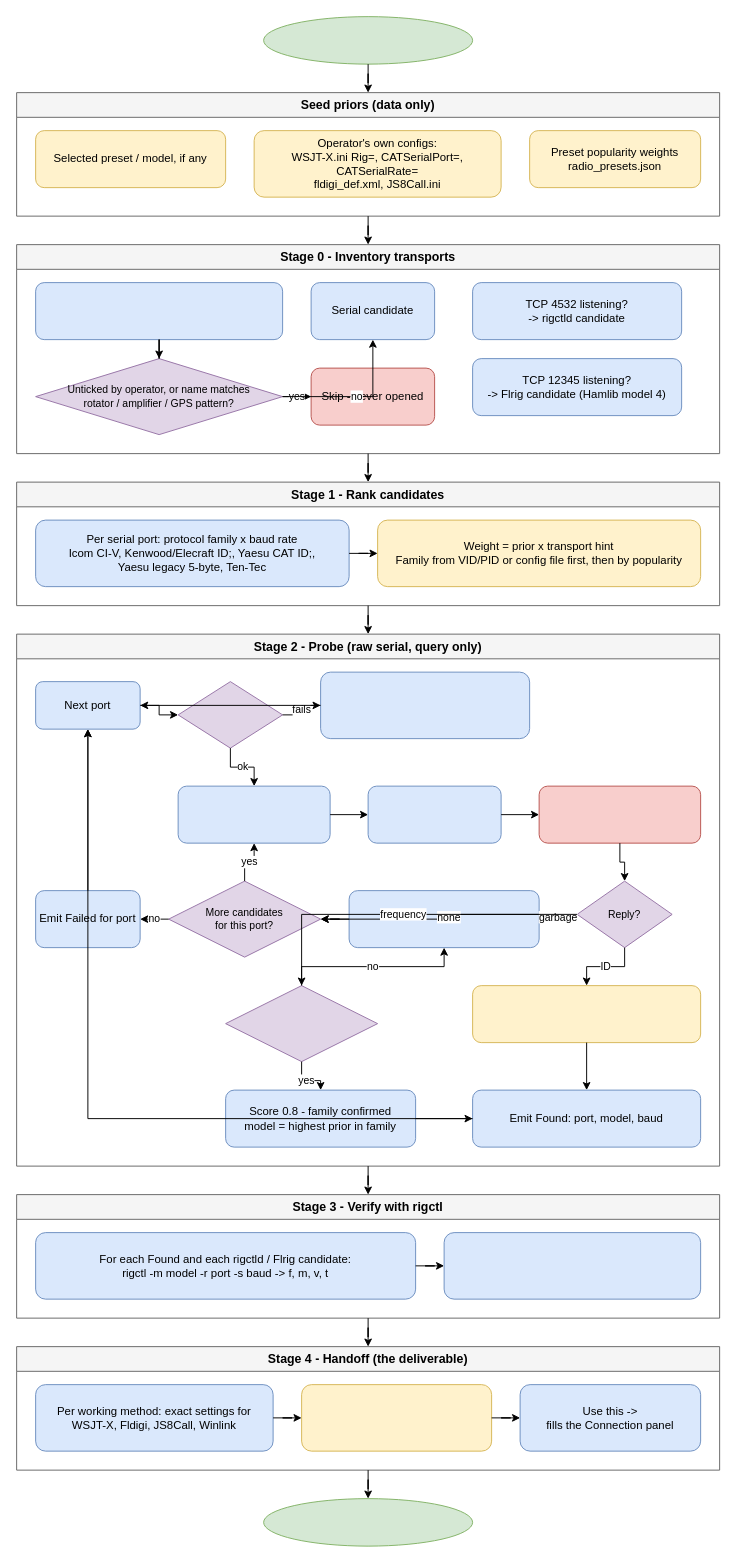
This 736x1563 diagram has some shape labels left out. Each missing label, with the centre of its shape:
COM ports via Plug and Play VID/PID -> chip and family hint, friendly name: (x=159, y=311)
Diff against what the operator's WSJT-X.ini already says: (x=396, y=1417)
Done - operator picks a method: (x=368, y=1522)
Emit Trying with exact bytes: (x=434, y=814)
Frequency reply: inside a ham band?: (x=301, y=1023)
Garbage: score 0.2 maybe wrong baud, keep sweeping: (x=443, y=919)
ID reply: look up model in rig_ids.json score 1.0 - confirmed: (x=586, y=1014)
In use: another program owns it (WSJT-X, Fldigi, rigctld?) Evidence, not failure: (x=425, y=705)
Next family x baud in ranked order: (x=253, y=814)
Open port: (x=230, y=714)
Operator clicks Find my radio: (x=368, y=40)
Same test suite as Run Tests results in the same panel: (x=572, y=1265)
Send family identify query wait <= 300 ms: (x=619, y=814)
